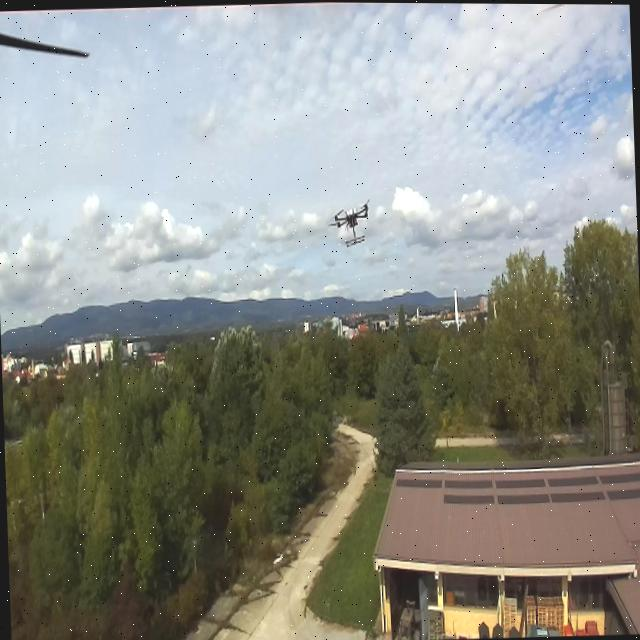drone: (295, 178, 407, 264)
